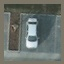car: (23, 15, 37, 49)
